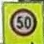limite 50: (9, 8, 37, 36)
